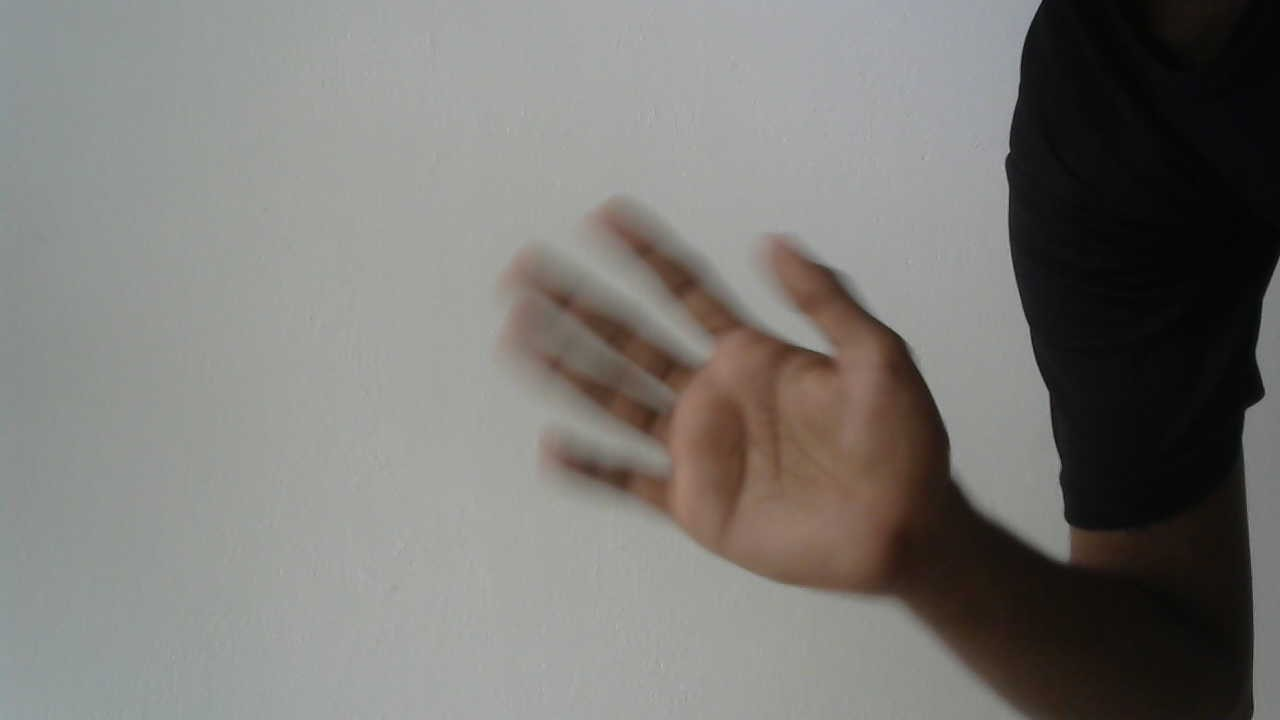hello: (472, 179, 962, 601)
